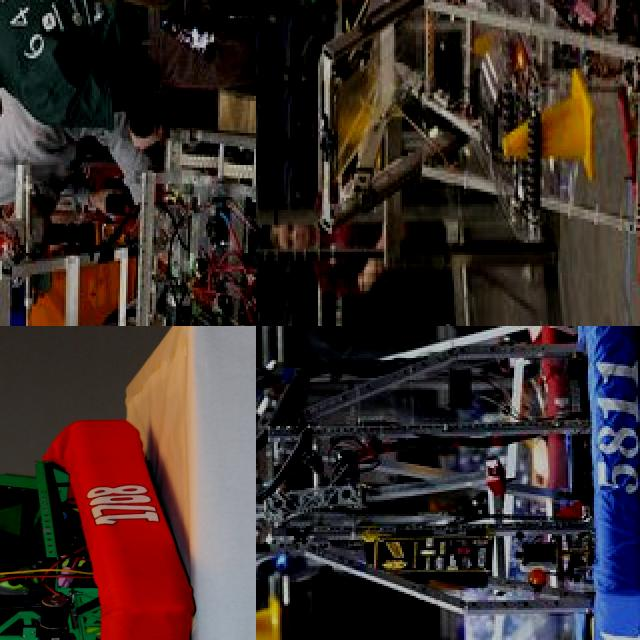FRC-Robots: (256, 326, 640, 640), (283, 0, 640, 283), (0, 117, 256, 326), (0, 410, 199, 640)
